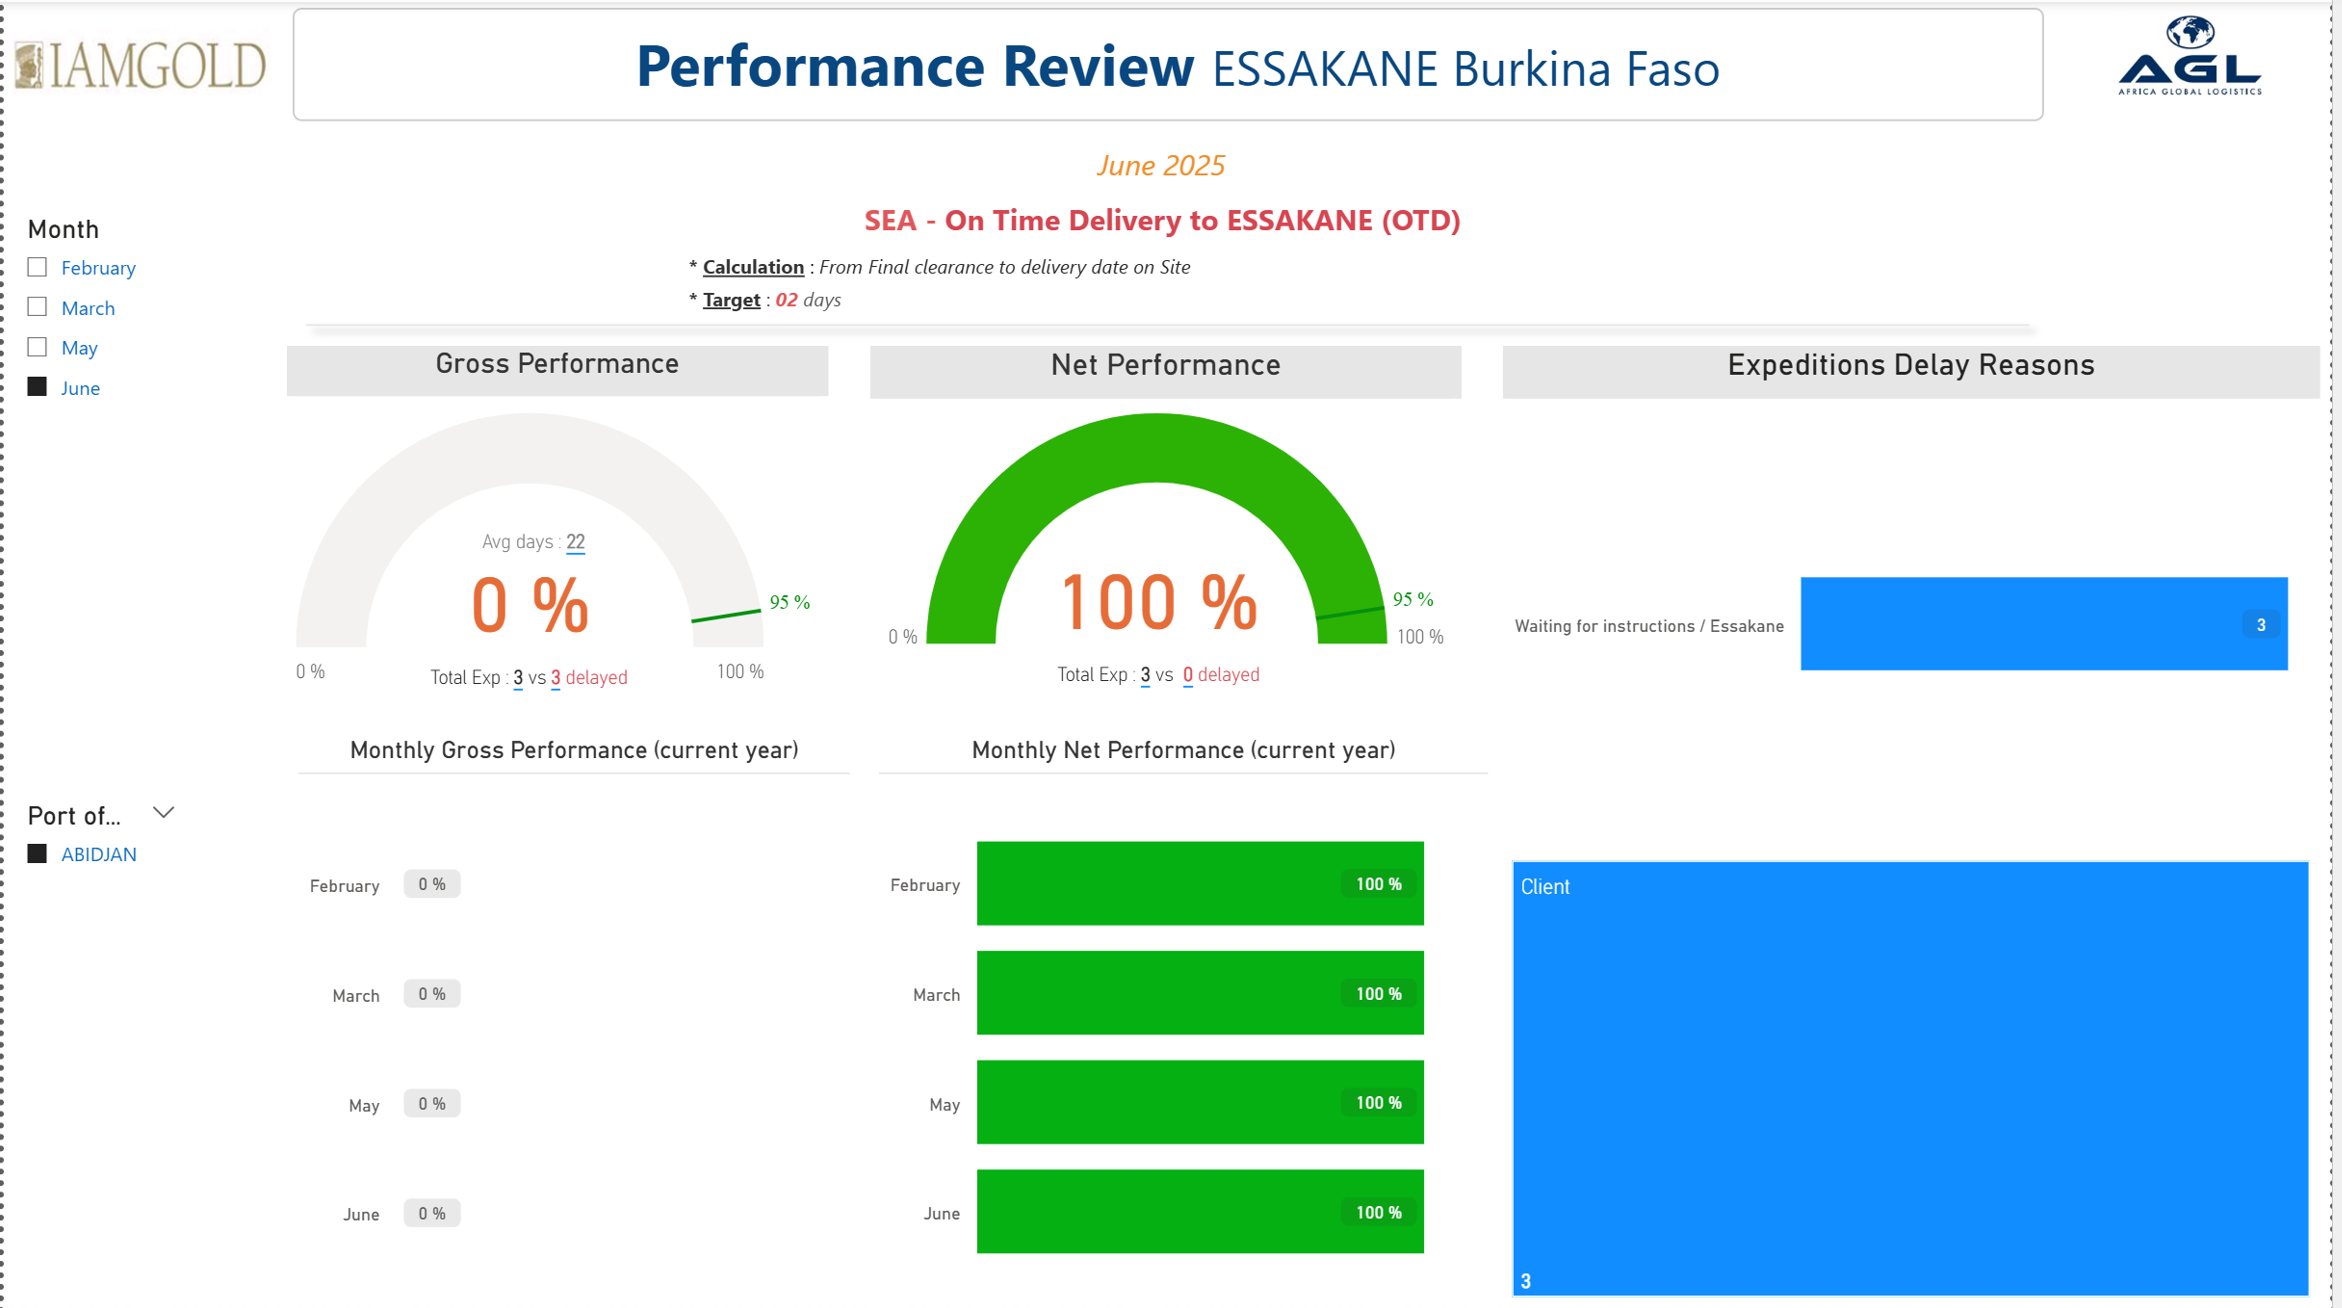

What the dashboard file says about the page in this screenshot:
{"tool":"powerbi","page":{"name":"SEA |  On Time Delivery to ESSAKANE (OTD)","canvas":[1280,720],"ordinal":6},"visuals":[{"type":"image","box":[1128.2,0,151.5,66.6],"z":0},{"type":"image","box":[0,0.9,152.4,65.7],"z":1000},{"type":"textbox","box":[158.5,4.4,963.5,62.2],"z":2000},{"type":"textbox","box":[369.6,104.2,535.2,33.3],"z":3000},{"type":"textbox","box":[435.3,75.3,403.8,37.7],"z":4000},{"type":"textbox","box":[371.5,132.5,474.4,47.4],"z":5000},{"type":"gauge","title":"Net Performance","fields":{"Y":["Avg(ESSA_sea.Net Performance %)"]},"box":[477.3,190.4,325.4,182],"z":5000,"group":"g1"},{"type":"shape","box":[156.8,170.8,966.1,18.4],"z":6000},{"type":"slicer","fields":{"Values":["ESSA_sea.Month"]},"box":[0,113,116.5,291.7],"z":7000},{"type":"gauge","title":"Gross Performance","fields":{"Y":["Avg(ESSA_sea.Gross Performance %)"]},"box":[156.5,190.4,298.1,202.4],"z":8000},{"type":"slicer","fields":{"Values":["ESSA_sea.Port of Discharge"]},"box":[0,436.2,106.9,78],"z":9000},{"type":"group","id":"g1","title":"Groupe 1","box":[477.3,190.4,325.4,182],"z":10000,"group":"g2"},{"type":"barChart","title":"Monthly Gross Performance (current year)","fields":{"Y":["Avg(ESSA_sea.Gross Performance %)"],"Category":["ESSA_sea.Month"]},"box":[162.2,404.6,303.3,315.6],"z":10000},{"type":"barChart","title":"Monthly Net Performance (current year)","fields":{"Y":["Avg(ESSA_sea.Net Performance %)"],"Category":["ESSA_sea.Month"]},"box":[481.3,404.6,335,314.7],"z":11000},{"type":"barChart","title":"Expeditions Delay Reasons","fields":{"Category":["ESSA_sea.Reason for Delay"],"Y":["CountNonNull(ESSA_sea.Reason for Delay)"]},"box":[825.4,190.4,449.6,276.1],"z":12000},{"type":"treemap","fields":{"Group":["ESSA_sea.Delay Responsibility4"],"Values":["CountNonNull(ESSA_sea.Delay Responsibility4)"]},"box":[825,469,449,250],"z":13000},{"type":"textbox","box":[241.3,282.6,100,33.9],"z":14000},{"type":"textbox","box":[208,357,161.3,31.7],"z":15000},{"type":"group","id":"g2","title":"Groupe 2","box":[477.3,190.4,325.4,197.5],"z":17000},{"type":"textbox","box":[554.7,356.1,161.3,31.7],"z":17000,"group":"g2"}]}

Visuals, with their boxes on the page's 1280x720 design canvas (x1, y1, x2, y2). These are canvas units, not pixel positions in the 2342x1308 screenshot, which may show the page scaled, cropped or inside an application window:
image: bbox=(1128, 0, 1280, 67)
image: bbox=(0, 1, 152, 67)
textbox: bbox=(158, 4, 1122, 67)
textbox: bbox=(370, 104, 905, 138)
textbox: bbox=(435, 75, 839, 113)
textbox: bbox=(372, 132, 846, 180)
"Net Performance" gauge: bbox=(477, 190, 803, 372)
shape: bbox=(157, 171, 1123, 189)
slicer - ESSA_sea.Month: bbox=(0, 113, 116, 405)
"Gross Performance" gauge: bbox=(156, 190, 455, 393)
slicer - ESSA_sea.Port of Discharge: bbox=(0, 436, 107, 514)
"Groupe 1" group: bbox=(477, 190, 803, 372)
"Monthly Gross Performance (current year)" barChart: bbox=(162, 405, 466, 720)
"Monthly Net Performance (current year)" barChart: bbox=(481, 405, 816, 719)
"Expeditions Delay Reasons" barChart: bbox=(825, 190, 1275, 466)
treemap - ESSA_sea.Delay Responsibility4 x CountNonNull(ESSA_sea.Delay Responsibility4): bbox=(825, 469, 1274, 719)
textbox: bbox=(241, 283, 341, 316)
textbox: bbox=(208, 357, 369, 389)
"Groupe 2" group: bbox=(477, 190, 803, 388)
textbox: bbox=(555, 356, 716, 388)
